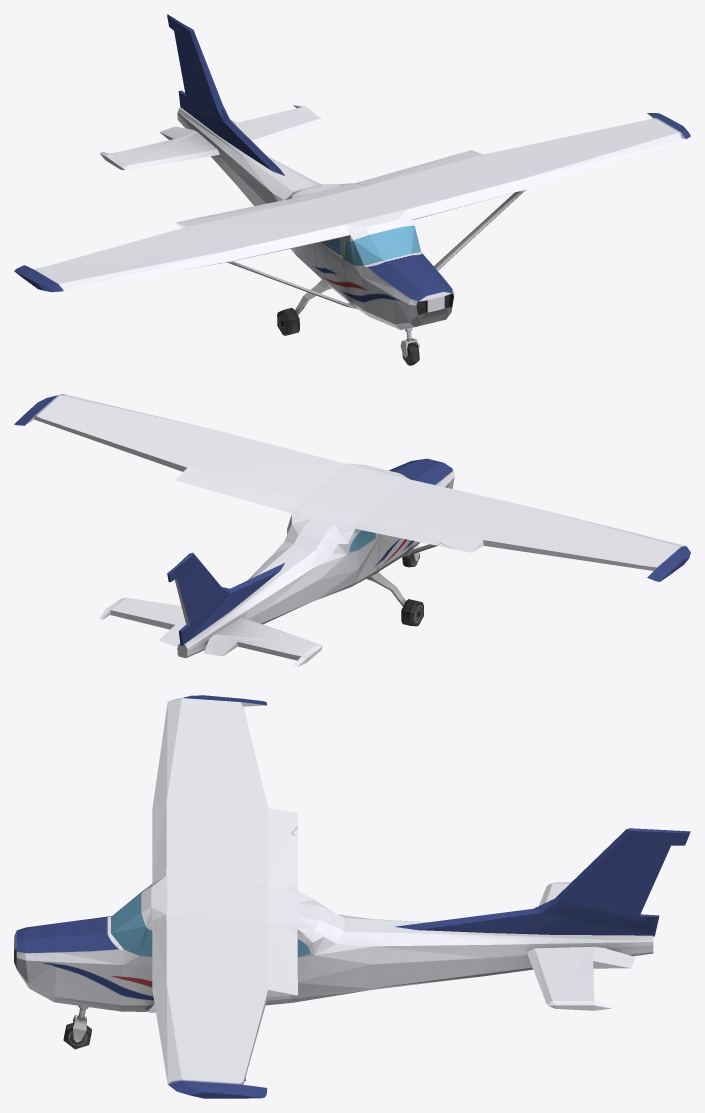
The picture shows the model from 3 angles, top to bottom: view 1: azimuth 30°, elevation 25°; view 2: azimuth 150°, elevation 25°; view 3: azimuth 270°, elevation 25°; orthographic projection. The views are drawn at different scales.
Visible parts, largest first — view 1: awionetka; view 2: awionetka; view 3: awionetka.
Part boxes in pixels (bbox=[...]): awionetka: bbox=[14, 14, 690, 365]; awionetka: bbox=[14, 394, 690, 666]; awionetka: bbox=[14, 695, 690, 1098].
Bounding box in the file's own units: 130 × 33.63 × 93.82.
Materials: 1 (1 with a texture image).
